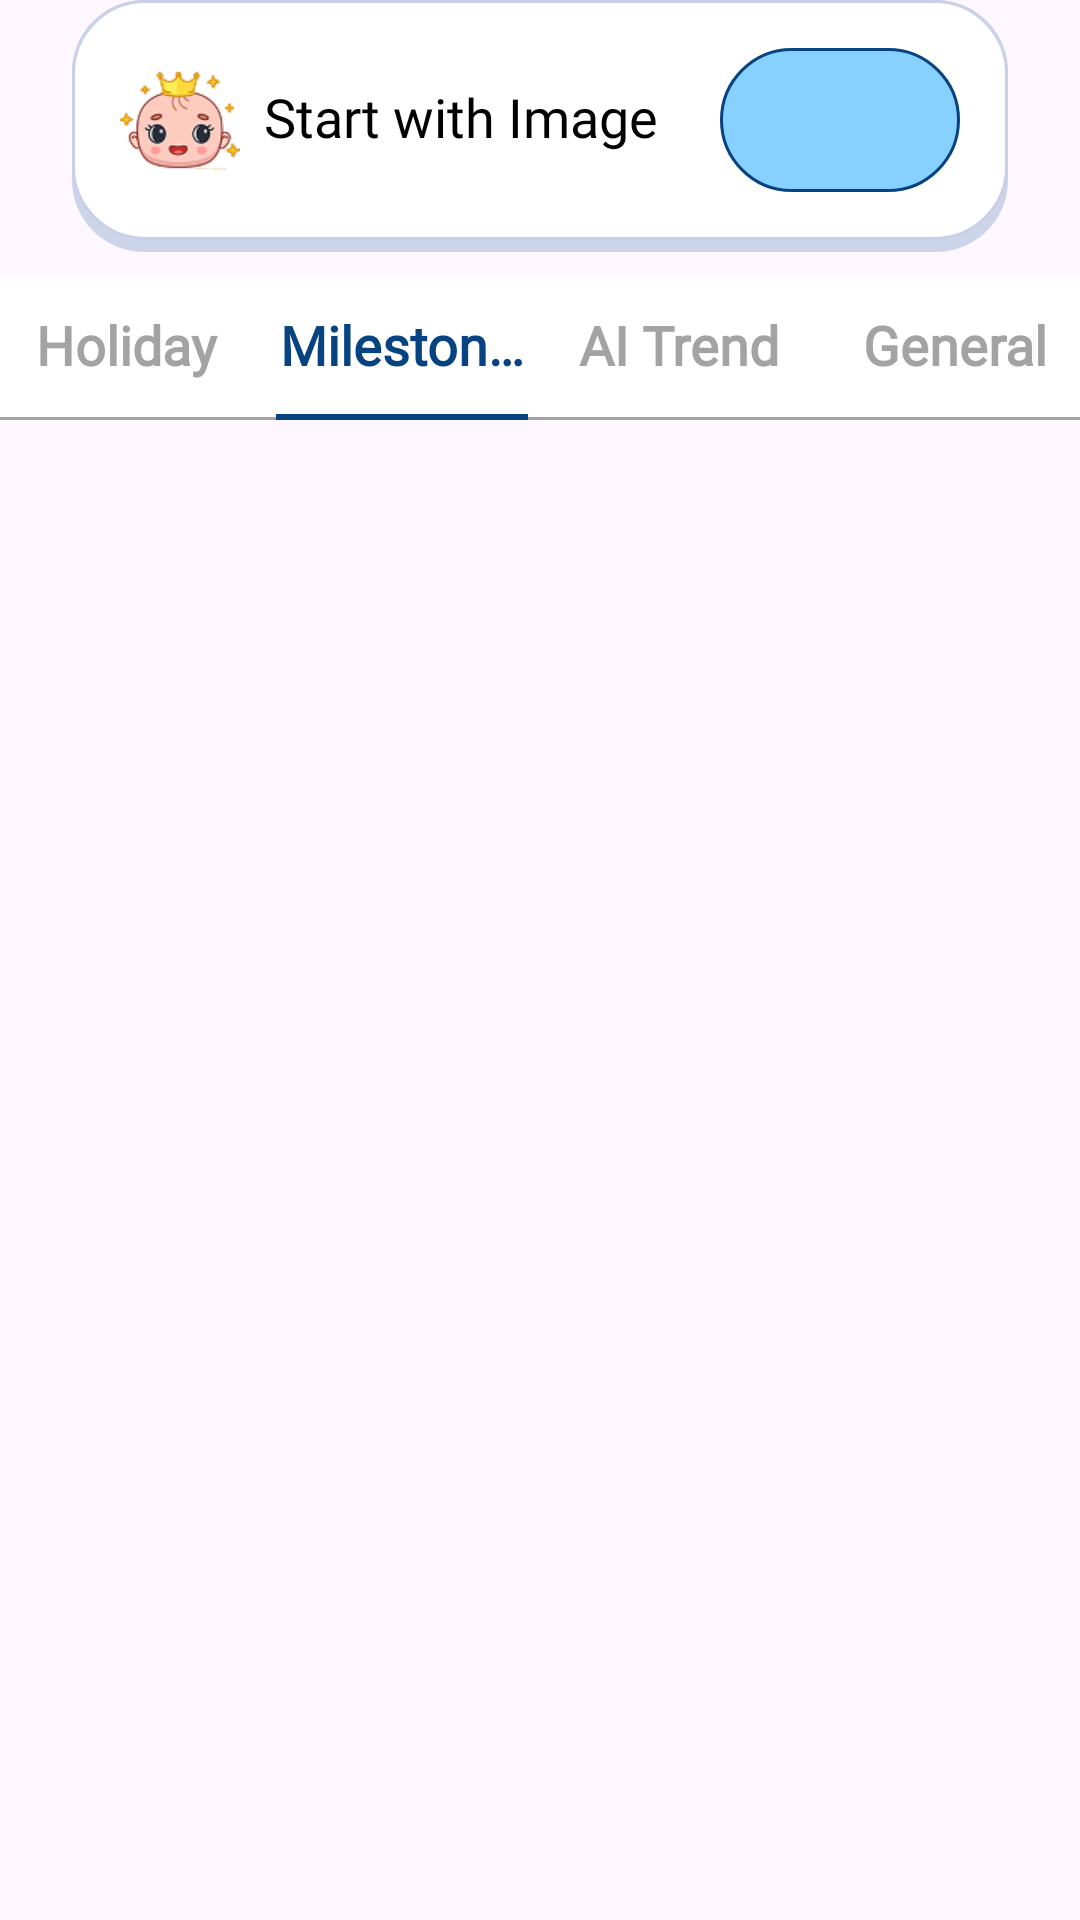

Screen size 1080px x 1920px. Icon name, then its center in pixels as (x=x, y=y):
baby home: (x=180, y=120)
